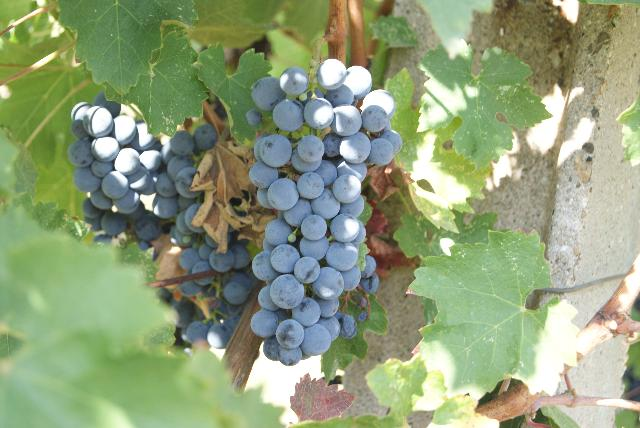grapes: (245, 59, 402, 365), (68, 92, 218, 244)
